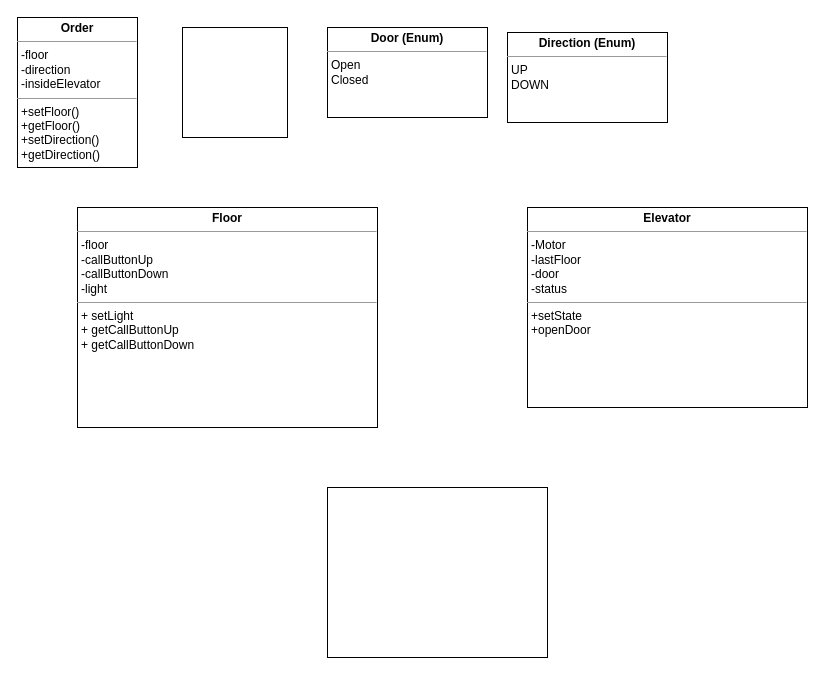
Image size: 825x675. Some labels were removed from this diagram. Each missing label, with the centre of its shape:
"Button -isPressed -LED +press() +setLED()" goes at pixel 235 82.
"Order handler -orders -sequens +addOrder() +getNextOrder() +setSequens()" goes at pixel 437 572.
